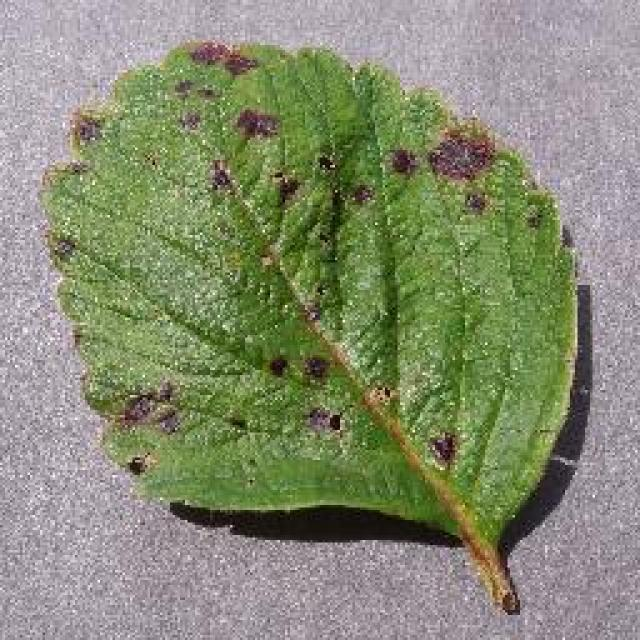Strawberry leaf scorch: (172, 53, 405, 267)
